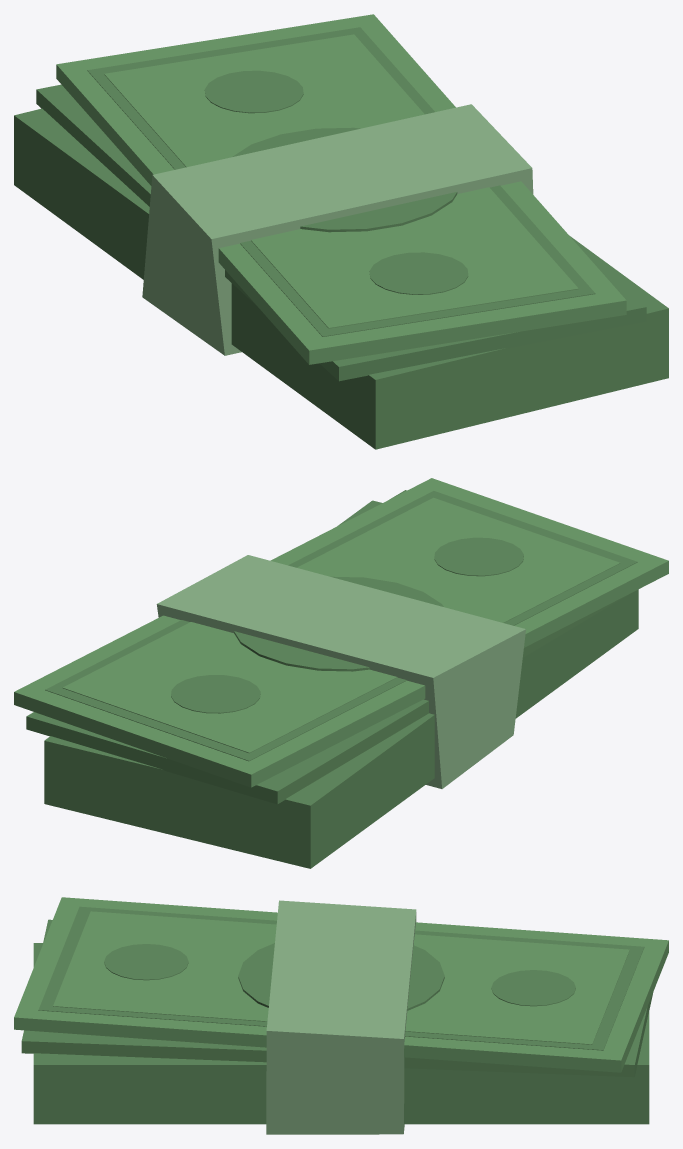
File: para (1).fbx
3 views of the same model, one above another, from view 1: azimuth 30°, elevation 25°; view 2: azimuth 150°, elevation 25°; view 3: azimuth 270°, elevation 25° (orthographic). The views are drawn at different scales.
Visible parts, largest first — view 1: pCube16; view 2: pCube16; view 3: pCube16.
Part boxes in pixels (x1=…): pCube16: x1=14, y1=14, x2=668, y2=449; pCube16: x1=14, y1=478, x2=668, y2=868; pCube16: x1=14, y1=897, x2=668, y2=1134.
Size of the model in its own units: 748 by 218 by 1268.
